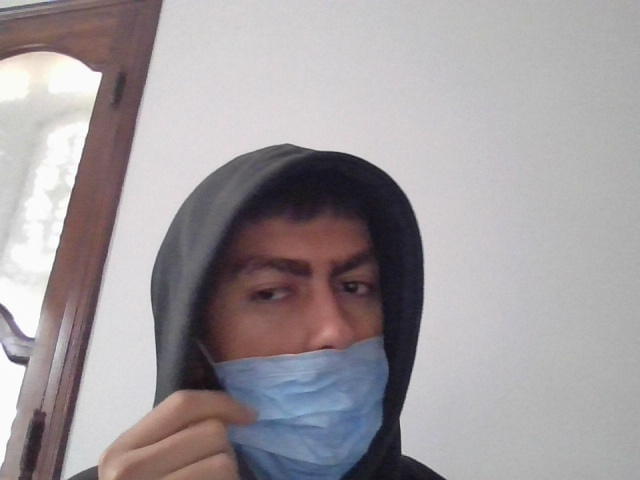mask_weared_incorrect: (196, 193, 401, 480)
